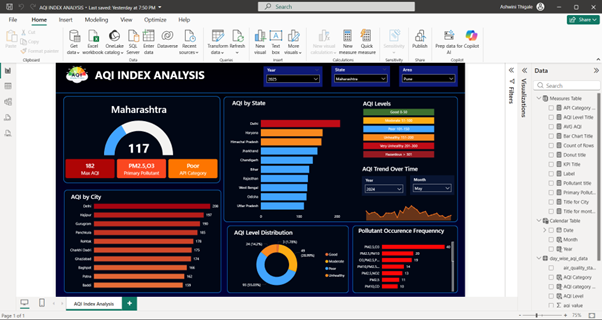

Layout of this report page (visuals, bound fields, positions):
{"tool":"powerbi","page":{"name":"AQI Index Analysis","canvas":[1400,800],"ordinal":0},"visuals":[{"type":"shape","box":[25.5,113.9,537.5,297.6],"z":0},{"type":"textbox","box":[129.1,10.5,388.7,60],"z":1000},{"type":"image","box":[0,10.5,145.6,60],"z":2000},{"type":"gauge","fields":{"Y":["Measures Table.AVG AQI"]},"box":[114.8,193.4,336.1,127.9],"z":3000},{"type":"slicer","fields":{"Values":["Calendar Table.Year"]},"box":[709.8,11.5,201.6,70.5],"z":4000},{"type":"slicer","fields":{"Values":["day_wise_aqi_data.state"]},"box":[942.4,10.7,201.1,71],"z":5000},{"type":"slicer","fields":{"Values":["day_wise_aqi_data.area"]},"box":[1174.3,10.7,201.1,71],"z":6000},{"type":"cardVisual","fields":{"Data":["Max(day_wise_aqi_data.aqi_value)","Measures Table.Primary Pollutant","Measures Table.API Category KPI"]},"box":[28.2,324.4,530.8,75.1],"z":7000},{"type":"cardVisual","fields":{"Data":["Measures Table.KPI Title"]},"box":[32.2,128.7,504,57.6],"z":8000},{"type":"shape","box":[573.8,114.8,801.6,429.5],"z":9000},{"type":"barChart","fields":{"Category":["day_wise_aqi_data.state"],"Y":["Measures Table.AVG AQI"]},"box":[585,170,457.5,373.8],"z":10000},{"type":"cardVisual","fields":{"Data":["Measures Table.Bar Chart Title"]},"box":[585,113.8,151.2,43.8],"z":11000},{"type":"barChart","fields":{"Category":["day_wise_aqi_data.AQI Category"],"Y":["Measures Table.Label"]},"box":[1047.5,144.3,252.5,185.2],"z":12000},{"type":"cardVisual","fields":{"Data":["Measures Table.AQI Level Title"]},"box":[1023,114.8,150.8,44.3],"z":13000},{"type":"areaChart","fields":{"Category":["Calendar Table.Date.Variation.Date Hierarchy.Day"],"Y":["Measures Table.AVG AQI"]},"box":[1047.5,454.1,319.7,90.2],"z":14000},{"type":"slicer","fields":{"Values":["Calendar Table.Date.Variation.Date Hierarchy.Year"]},"box":[1047.5,386.9,150.8,67.2],"z":15000},{"type":"slicer","fields":{"Values":["Calendar Table.Date.Variation.Date Hierarchy.Month"]},"box":[1211.5,385.2,150.8,67.2],"z":16000},{"type":"cardVisual","fields":{"Data":["Measures Table.Title for monthly chart"]},"box":[1029.5,339.3,227.9,44.3],"z":17000},{"type":"shape","box":[27.9,434.4,537.7,352.5],"z":18000},{"type":"barChart","fields":{"Y":["Measures Table.AVG AQI"],"Category":["day_wise_aqi_data.area"]},"box":[37.7,457.4,526.2,329.5],"z":19000},{"type":"cardVisual","fields":{"Data":["Measures Table.Title for City"]},"box":[13.1,434.4,180.3,44.3],"z":20000},{"type":"shape","box":[585.2,555.7,416.4,231.1],"z":21000},{"type":"donutChart","fields":{"Category":["day_wise_aqi_data.AQI Category"],"Y":["Measures Table.Count of Rows"]},"box":[585.2,593.4,416.4,193.4],"z":22000},{"type":"cardVisual","fields":{"Data":["Measures Table.Donut title"]},"box":[573.8,555.7,272.1,44.3],"z":23000},{"type":"shape","box":[1014.8,555.7,360.7,231.1],"z":24000},{"type":"barChart","fields":{"Y":["Measures Table.Count of Rows"],"Category":["day_wise_aqi_data.prominent_pollutants"]},"box":[1014.8,600,352.5,186.9],"z":25000},{"type":"cardVisual","fields":{"Data":["Measures Table.Pollutant title"]},"box":[1001.6,549.2,360.7,44.3],"z":26000},{"type":"shape","box":[0,82,1400,42.6],"z":27000}]}

Visuals, with their boxes on the page's 1400x800 design canvas (x1, y1, x2, y2). These are canvas units, not pixel positions in the 602x320 screenshot, which may show the page scaled, cropped or inside an application window:
shape: 26,114,563,412
textbox: 129,10,518,70
image: 0,10,146,70
gauge - Measures Table.AVG AQI: 115,193,451,321
slicer - Calendar Table.Year: 710,12,911,82
slicer - day_wise_aqi_data.state: 942,11,1144,82
slicer - day_wise_aqi_data.area: 1174,11,1375,82
cardVisual - Max(day_wise_aqi_data.aqi_value) x Measures Table.Primary Pollutant: 28,324,559,400
cardVisual - Measures Table.KPI Title: 32,129,536,186
shape: 574,115,1375,544
barChart - day_wise_aqi_data.state x Measures Table.AVG AQI: 585,170,1042,544
cardVisual - Measures Table.Bar Chart Title: 585,114,736,158
barChart - day_wise_aqi_data.AQI Category x Measures Table.Label: 1048,144,1300,330
cardVisual - Measures Table.AQI Level Title: 1023,115,1174,159
areaChart - Calendar Table.Date.Variation.Date Hierarchy.Day x Measures Table.AVG AQI: 1048,454,1367,544
slicer - Calendar Table.Date.Variation.Date Hierarchy.Year: 1048,387,1198,454
slicer - Calendar Table.Date.Variation.Date Hierarchy.Month: 1212,385,1362,452
cardVisual - Measures Table.Title for monthly chart: 1030,339,1257,384
shape: 28,434,566,787
barChart - Measures Table.AVG AQI x day_wise_aqi_data.area: 38,457,564,787
cardVisual - Measures Table.Title for City: 13,434,193,479
shape: 585,556,1002,787
donutChart - day_wise_aqi_data.AQI Category x Measures Table.Count of Rows: 585,593,1002,787
cardVisual - Measures Table.Donut title: 574,556,846,600
shape: 1015,556,1376,787
barChart - Measures Table.Count of Rows x day_wise_aqi_data.prominent_pollutants: 1015,600,1367,787
cardVisual - Measures Table.Pollutant title: 1002,549,1362,594
shape: 0,82,1400,125
